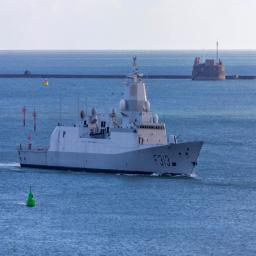Fragata: (18, 50, 207, 180)
